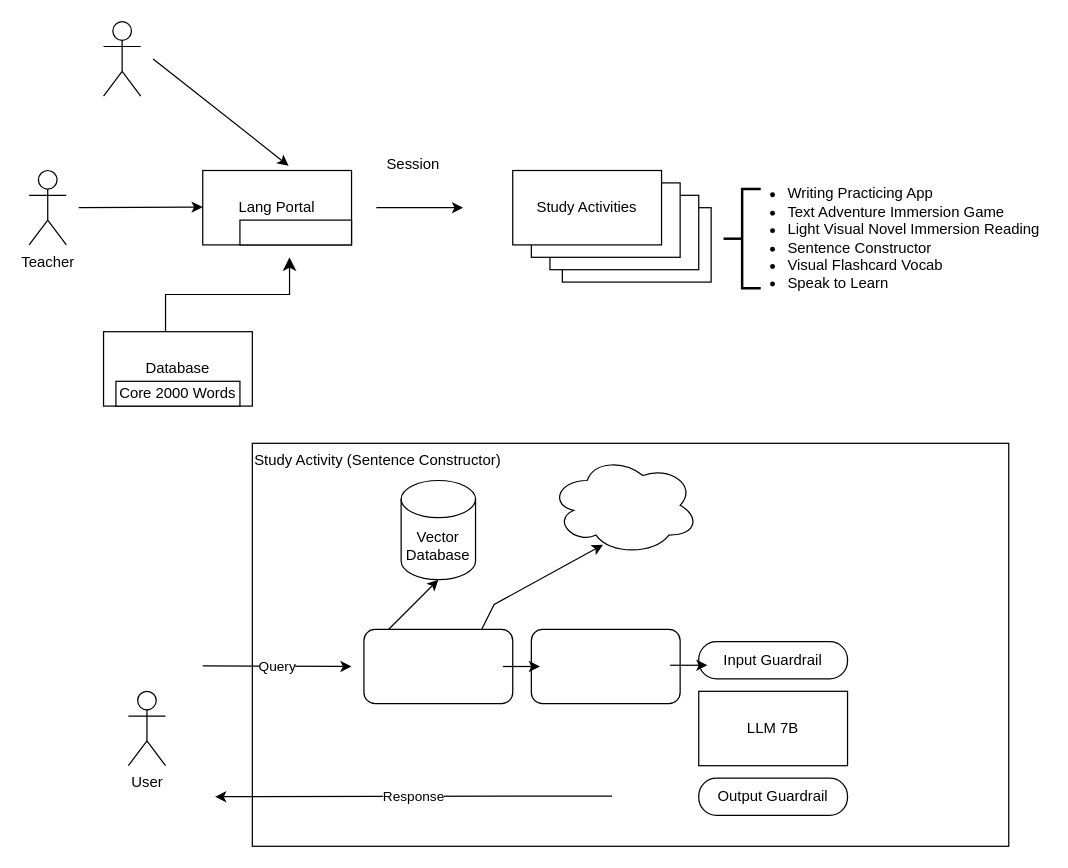
This 1068x868 diagram has some shape labels left out. Each missing label, with the centre of its shape:
"Internet" belongs at point 624,504.
"Prompt Cache" belongs at point 605,666.
"RAG" belongs at point 438,666.
"Student" belongs at point 121,58.
"Word Group" belongs at point 295,232.
